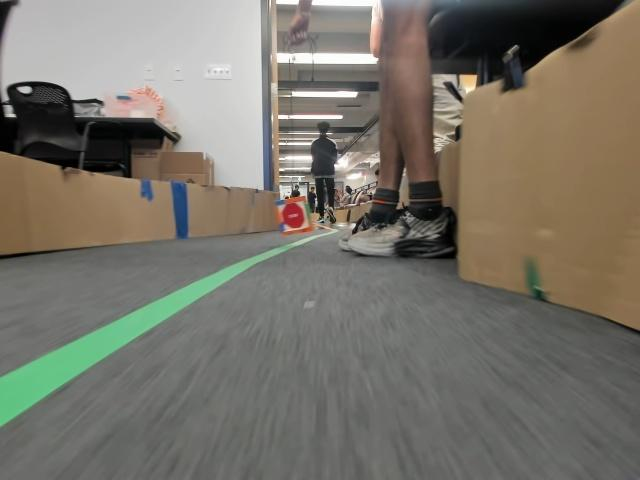Stop: (279, 205, 301, 230)
